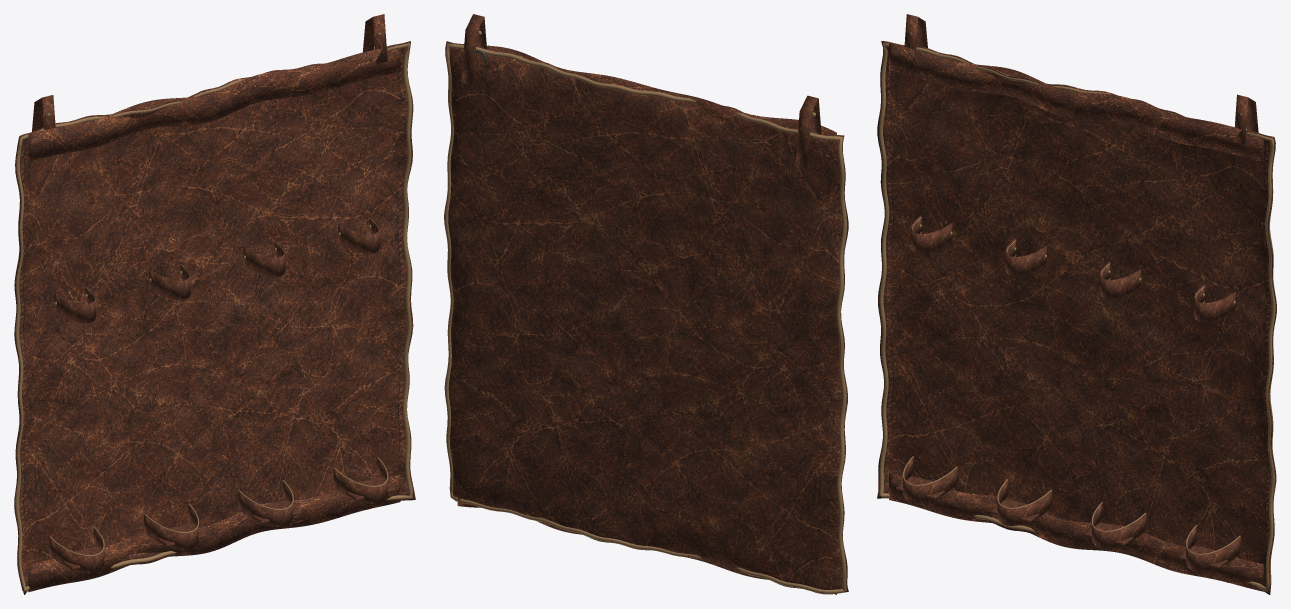
File: WM-01-deployed-leather.glb
3 views of the same model, side by side, from view 1: azimuth 30°, elevation 25°; view 2: azimuth 150°, elevation 25°; view 3: azimuth 330°, elevation 25° (orthographic).
Parts seen in each view (by area): view 1: WM01_SINGLE_CONTINUOUS_HIDE.001, WM01_Soft_folded_lip.003, WM01_Soft_folded_lip.002, WM01_Raw_turned_edge.001, WM01_Open_toe_rest_1.001, WM01_Open_toe_rest_3.001, WM01_Open_toe_rest_4.001, WM01_Open_toe_rest_2.001, WM01_Retention_3.001, WM01_Retention_4.001, WM01_Retention_1.001, WM01_Retention_2.001 (+2 smaller); view 2: WM01_SINGLE_CONTINUOUS_HIDE.001, WM01_Raw_turned_edge.001, WM01_Soft_folded_lip.003, WM01_Hanging_strap.002, WM01_Hanging_strap.003, WM01_Soft_folded_lip.002; view 3: WM01_SINGLE_CONTINUOUS_HIDE.001, WM01_Soft_folded_lip.003, WM01_Soft_folded_lip.002, WM01_Raw_turned_edge.001, WM01_Open_toe_rest_3.001, WM01_Open_toe_rest_2.001, WM01_Open_toe_rest_1.001, WM01_Open_toe_rest_4.001, WM01_Retention_2.001, WM01_Retention_3.001, WM01_Retention_1.001, WM01_Retention_4.001 (+2 smaller).
Boxes of the visible parts, x1=… form: WM01_SINGLE_CONTINUOUS_HIDE.001: x1=14, y1=41, x2=415, y2=594; WM01_Soft_folded_lip.003: x1=28, y1=44, x2=400, y2=161; WM01_Soft_folded_lip.002: x1=28, y1=474, x2=400, y2=592; WM01_Raw_turned_edge.001: x1=15, y1=43, x2=413, y2=591; WM01_Open_toe_rest_1.001: x1=49, y1=528, x2=104, y2=573; WM01_Open_toe_rest_3.001: x1=238, y1=482, x2=293, y2=527; WM01_Open_toe_rest_4.001: x1=333, y1=458, x2=388, y2=503; WM01_Open_toe_rest_2.001: x1=144, y1=505, x2=198, y2=550; WM01_Retention_3.001: x1=243, y1=238, x2=285, y2=276; WM01_Retention_4.001: x1=338, y1=215, x2=379, y2=253; WM01_Retention_1.001: x1=54, y1=285, x2=95, y2=322; WM01_Retention_2.001: x1=149, y1=262, x2=190, y2=299; WM01_SINGLE_CONTINUOUS_HIDE.001: x1=444, y1=41, x2=848, y2=594; WM01_Raw_turned_edge.001: x1=444, y1=43, x2=846, y2=593; WM01_Soft_folded_lip.003: x1=476, y1=45, x2=836, y2=135; WM01_Hanging_strap.002: x1=795, y1=95, x2=821, y2=167; WM01_Hanging_strap.003: x1=461, y1=14, x2=486, y2=85; WM01_Soft_folded_lip.002: x1=457, y1=494, x2=836, y2=594; WM01_SINGLE_CONTINUOUS_HIDE.001: x1=877, y1=41, x2=1276, y2=594; WM01_Soft_folded_lip.003: x1=889, y1=43, x2=1263, y2=161; WM01_Soft_folded_lip.002: x1=889, y1=472, x2=1263, y2=591; WM01_Raw_turned_edge.001: x1=879, y1=43, x2=1275, y2=591; WM01_Open_toe_rest_3.001: x1=1091, y1=504, x2=1146, y2=548; WM01_Open_toe_rest_2.001: x1=997, y1=481, x2=1052, y2=525; WM01_Open_toe_rest_1.001: x1=903, y1=457, x2=957, y2=502; WM01_Open_toe_rest_4.001: x1=1186, y1=526, x2=1240, y2=571; WM01_Retention_2.001: x1=1005, y1=238, x2=1046, y2=276; WM01_Retention_3.001: x1=1100, y1=261, x2=1141, y2=299; WM01_Retention_1.001: x1=911, y1=215, x2=952, y2=253; WM01_Retention_4.001: x1=1194, y1=284, x2=1235, y2=322.
Bounding box in the file's own units: 1.67 × 1.99 × 0.2644.
Materials: 6 (1 with a texture image).
